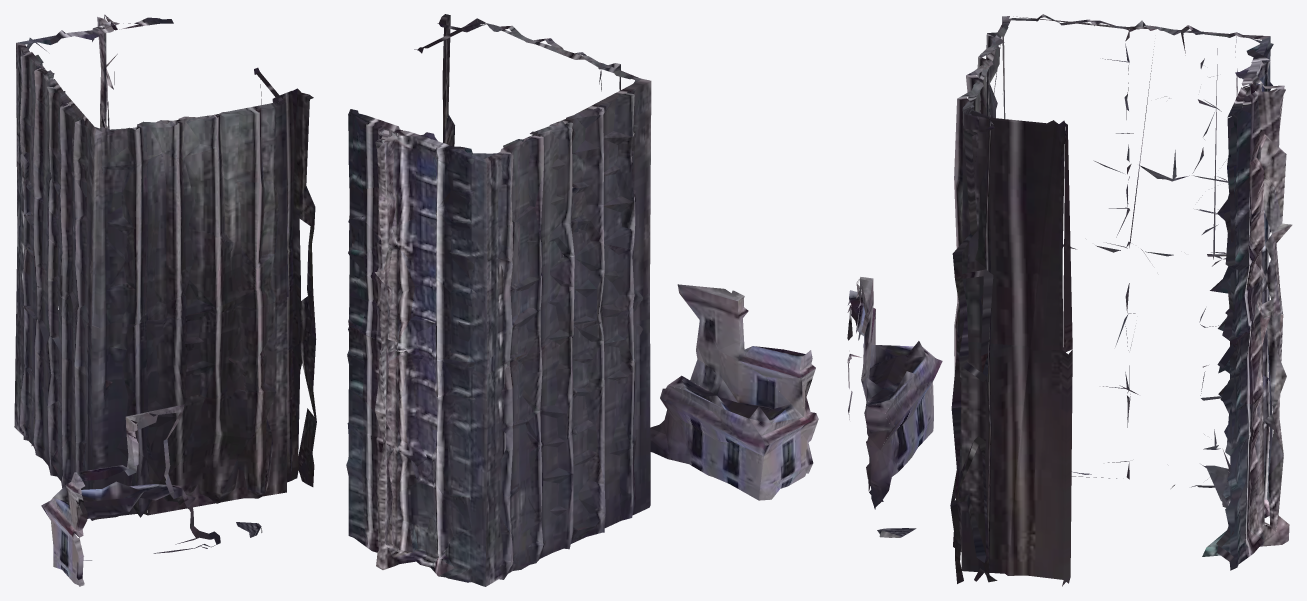
The picture shows the model from 3 angles, left to right: view 1: azimuth 30°, elevation 25°; view 2: azimuth 150°, elevation 25°; view 3: azimuth 270°, elevation 25°; orthographic projection. The views are drawn at different scales.
Parts seen in each view (by area): view 1: Mesh_0; view 2: Mesh_0; view 3: Mesh_0.
Part boxes in pixels (bbox=[...]): Mesh_0: bbox=[14, 14, 316, 586]; Mesh_0: bbox=[346, 14, 818, 586]; Mesh_0: bbox=[847, 14, 1292, 586].
Bounding box in the file's own units: 28.73 × 37.41 × 32.49.
Materials: 2 (2 with a texture image).
